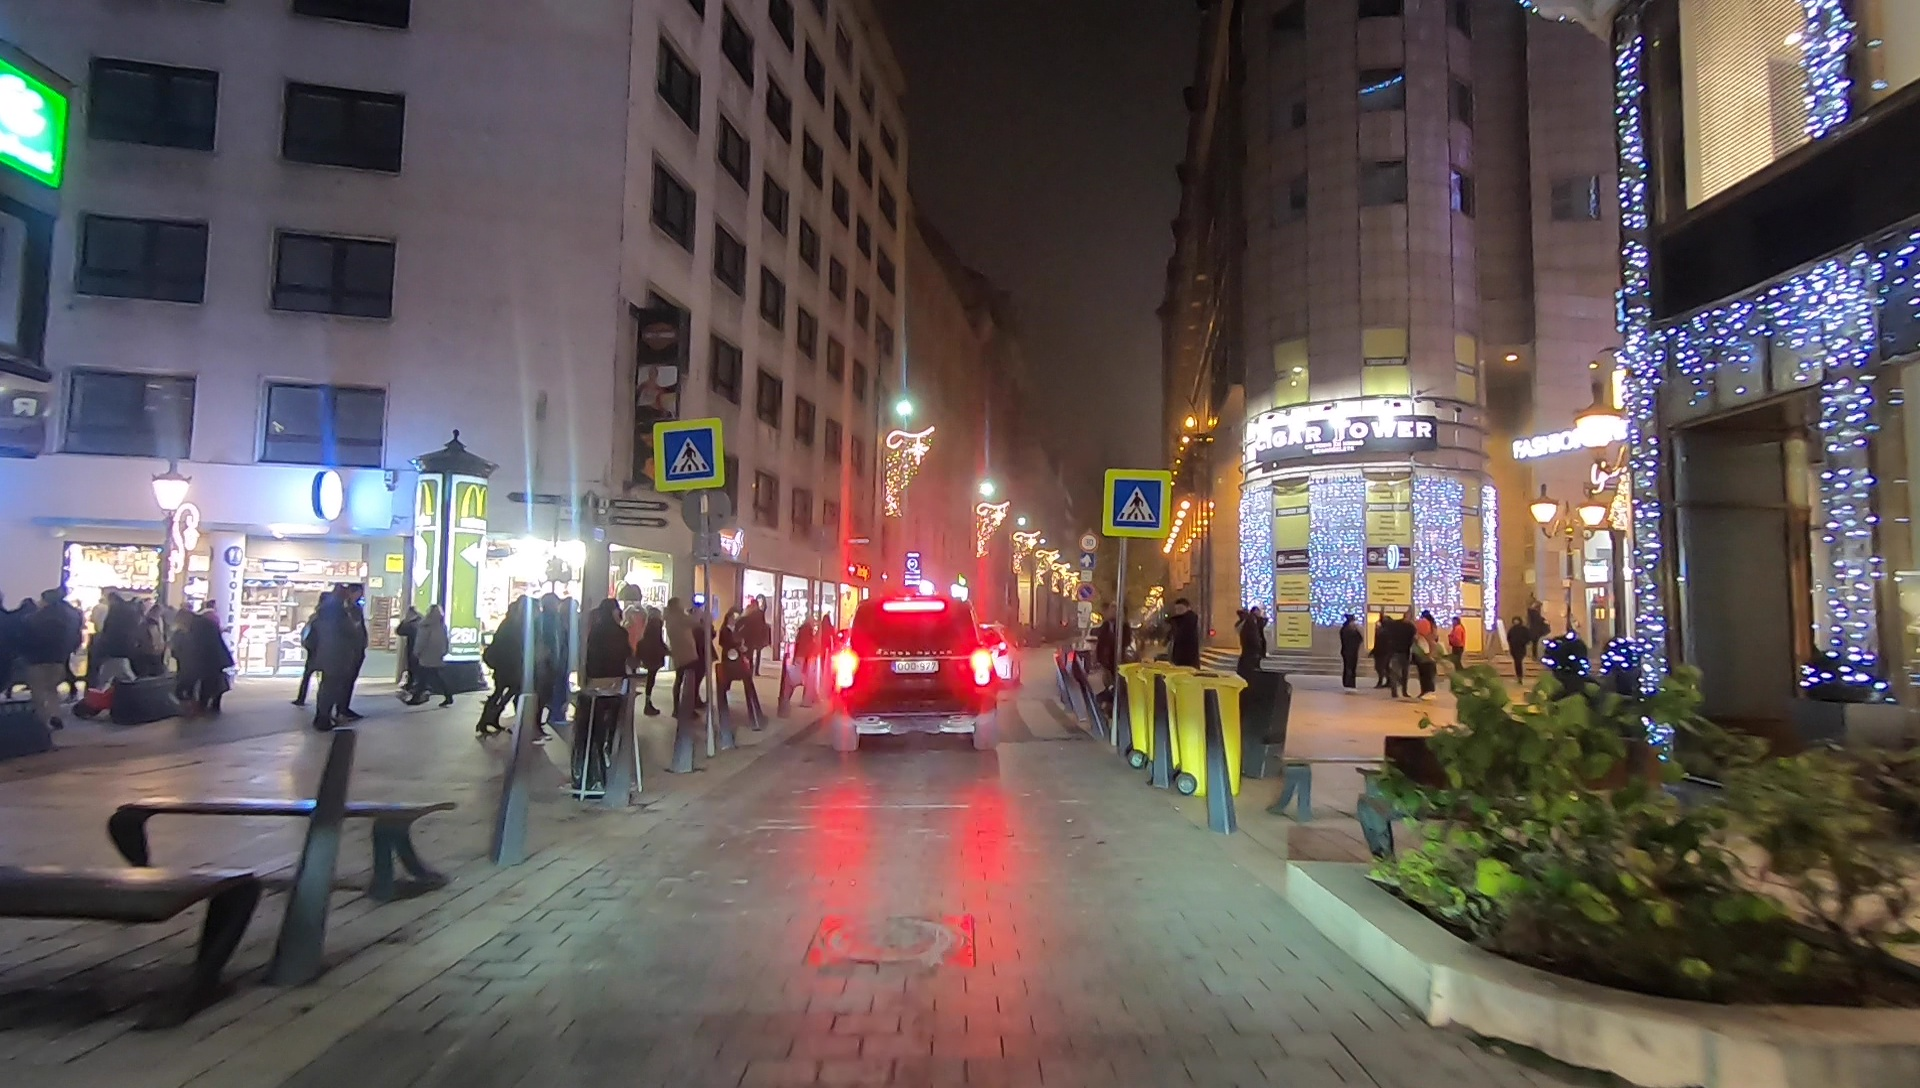person: (568, 602, 613, 797), (479, 586, 526, 739), (664, 599, 701, 721), (1167, 599, 1202, 724), (317, 585, 346, 729), (342, 581, 370, 724), (417, 605, 452, 709), (1237, 603, 1271, 711), (1102, 603, 1130, 716), (692, 599, 718, 720), (637, 605, 663, 719), (398, 607, 424, 705), (1414, 615, 1438, 697), (1339, 612, 1362, 694), (1392, 612, 1413, 698), (1374, 613, 1393, 690), (1507, 618, 1529, 680), (1449, 616, 1466, 675)
